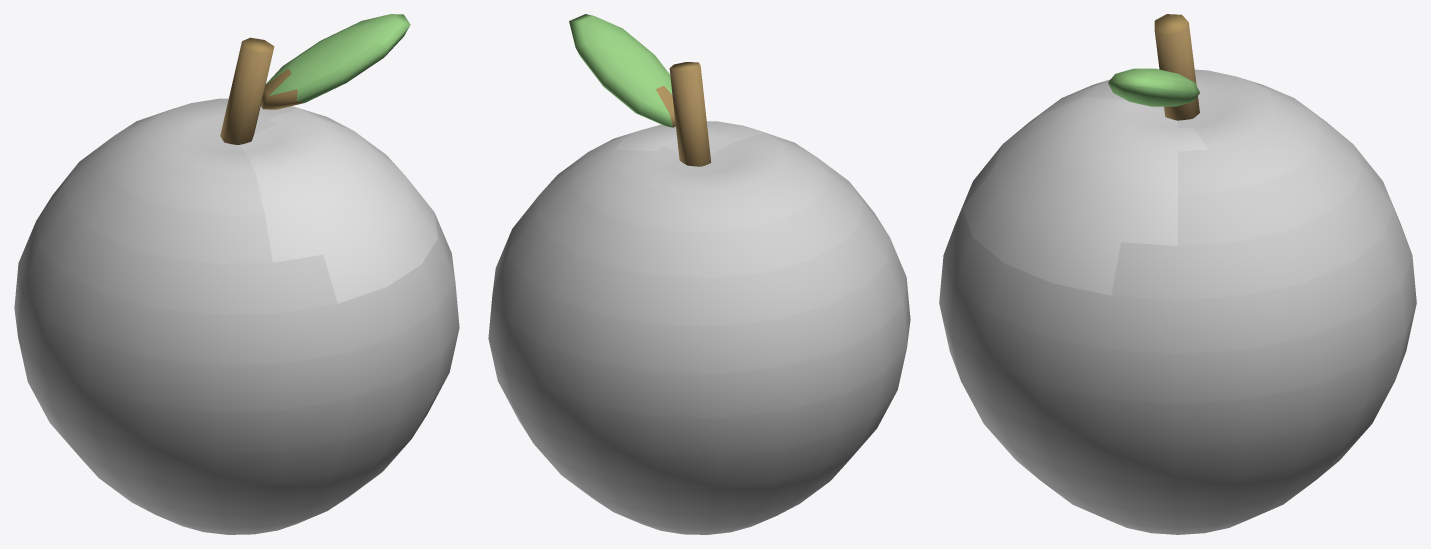
The model's file is Apple.glb.
3 views of the same model, side by side, from view 1: azimuth 30°, elevation 25°; view 2: azimuth 150°, elevation 25°; view 3: azimuth 270°, elevation 25° (orthographic). The views are drawn at different scales.
Parts seen in each view (by area): view 1: Apple, AppleGreens; view 2: Apple, AppleGreens; view 3: Apple, AppleGreens.
Part boxes in pixels (left/top/right/bottom): Apple: left=14, top=98, right=459, bottom=534; AppleGreens: left=220, top=14, right=410, bottom=144; Apple: left=488, top=121, right=910, bottom=534; AppleGreens: left=569, top=14, right=711, bottom=166; Apple: left=939, top=69, right=1416, bottom=534; AppleGreens: left=1108, top=14, right=1199, bottom=120.
Bounding box in the file's own units: 1 × 1.17 × 1.
